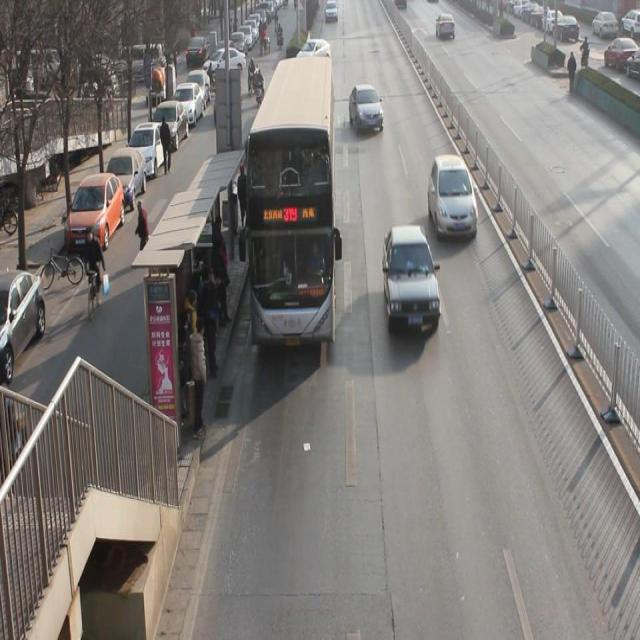car: (384, 228, 441, 330), (428, 156, 478, 240), (349, 84, 386, 135), (300, 38, 333, 66), (436, 16, 456, 42)
van: (244, 54, 336, 342)
